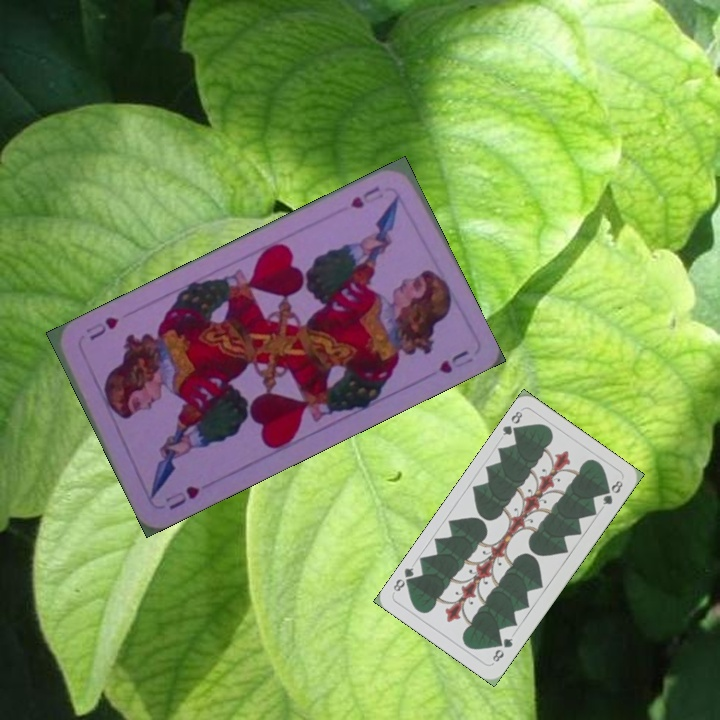G8: (498, 407, 525, 439), (488, 634, 515, 665)
HU: (160, 481, 202, 513), (346, 182, 383, 212)
